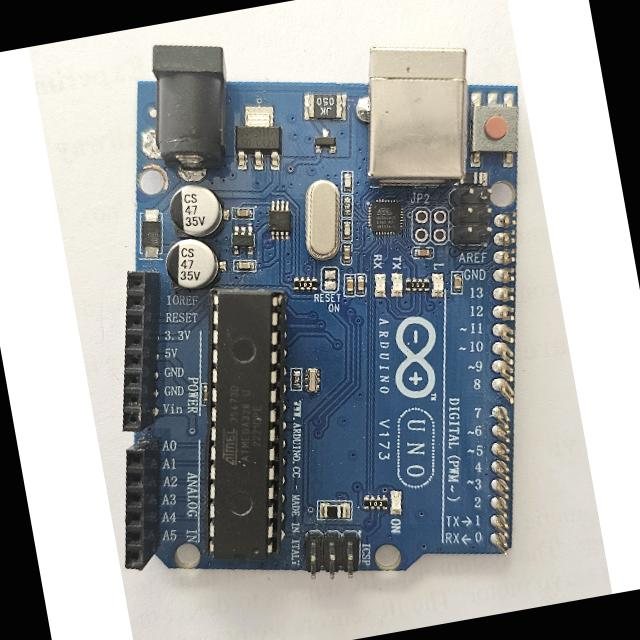missing_digital_pins: (483, 211, 519, 562)
